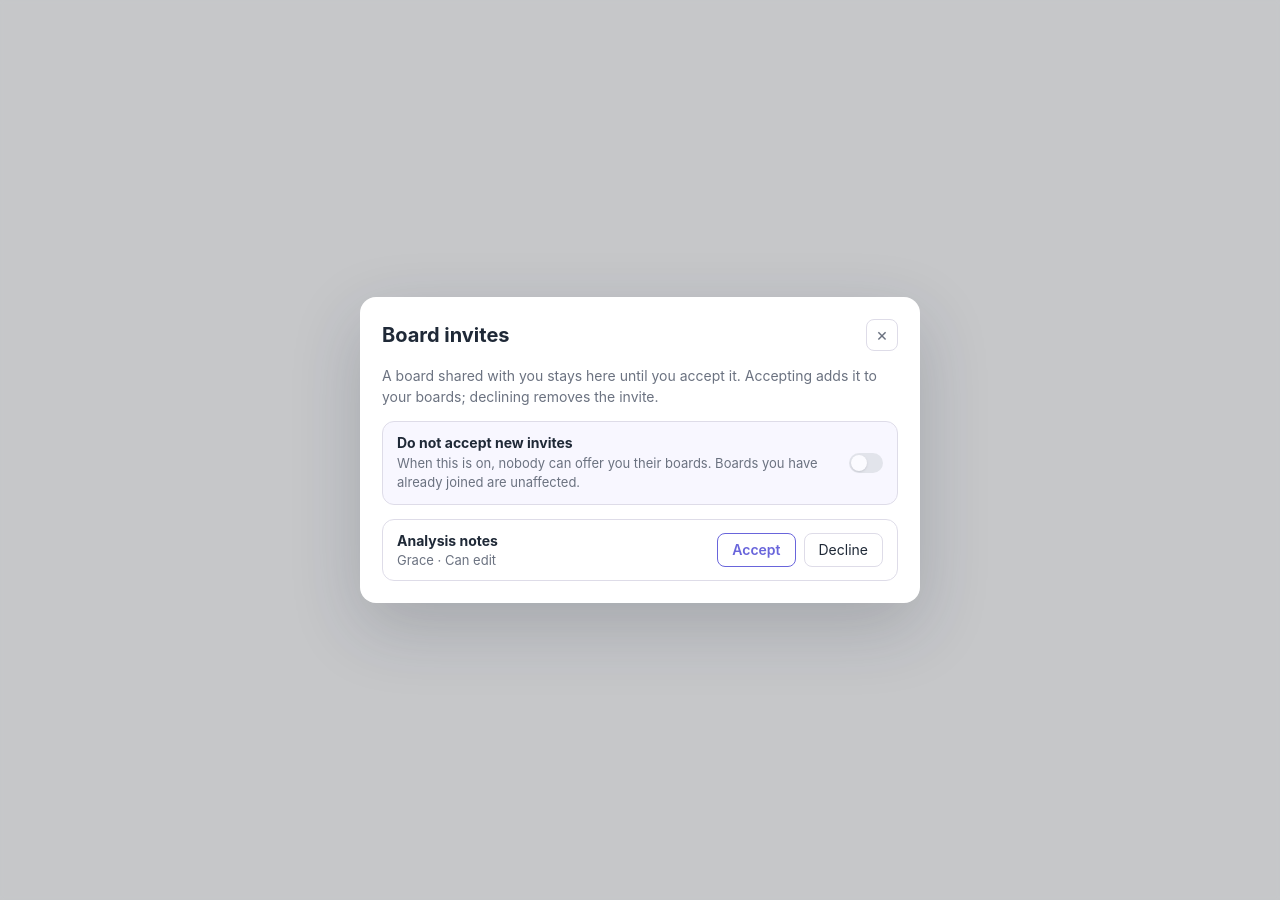
Test case: BoardInvites › reports an answer the server refused
Click the button "Accept" at (756, 550), box [717,533,796,567]
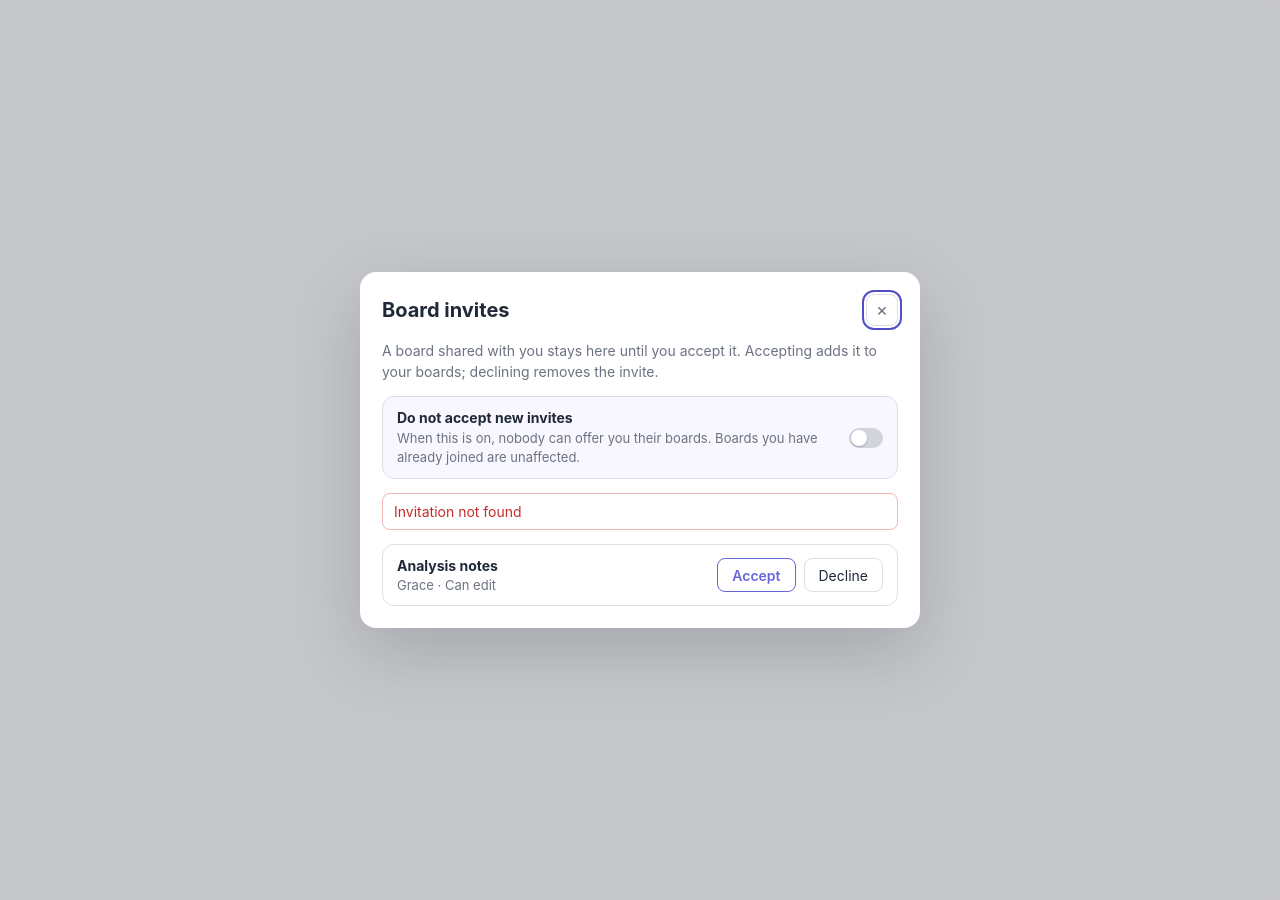
Check: the message reads "Invitation not found", box [394,503,522,520]
